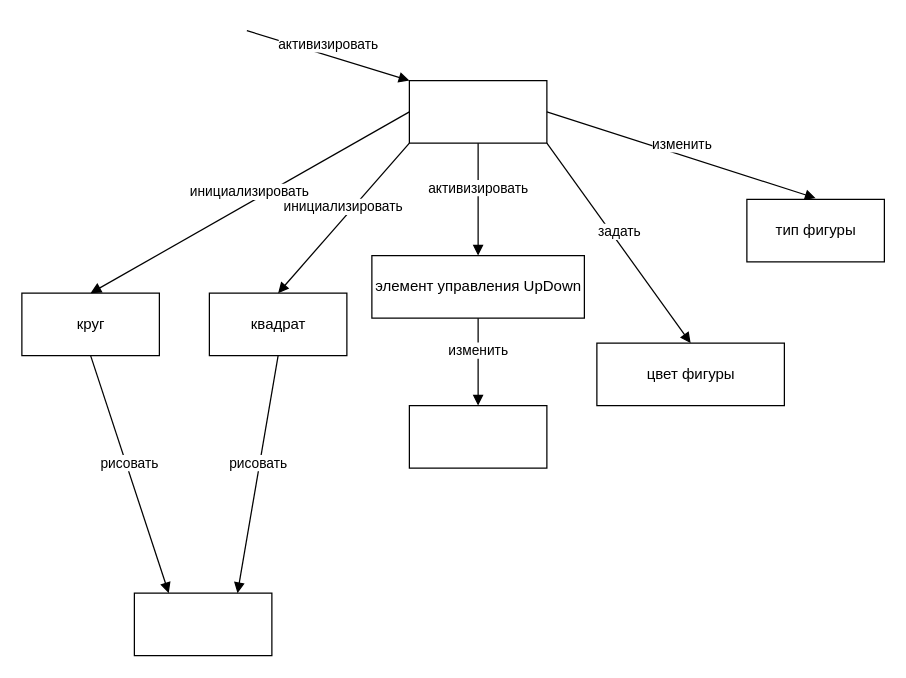
Image size: 906x678. Some labels were removed from this diagram. The shapes that lost their labels are listed below. From the top down, each one's centre as x and y in pixels, then its label:
At pixel 477 111: "главная форма".
At pixel 477 436: "размер фигуры".
At pixel 202 624: "канва".
